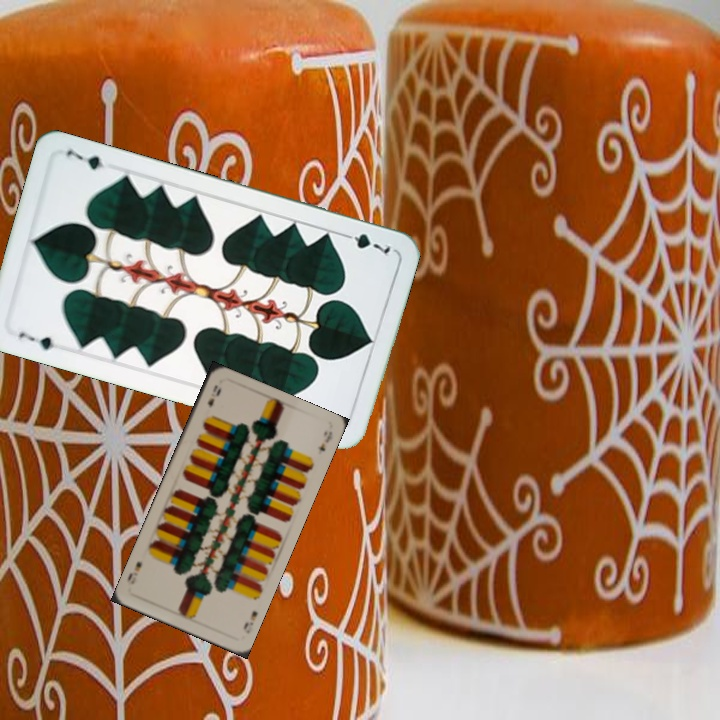E9: (239, 607, 260, 636), (203, 381, 224, 410)
G7: (337, 228, 393, 257), (14, 328, 57, 353)
